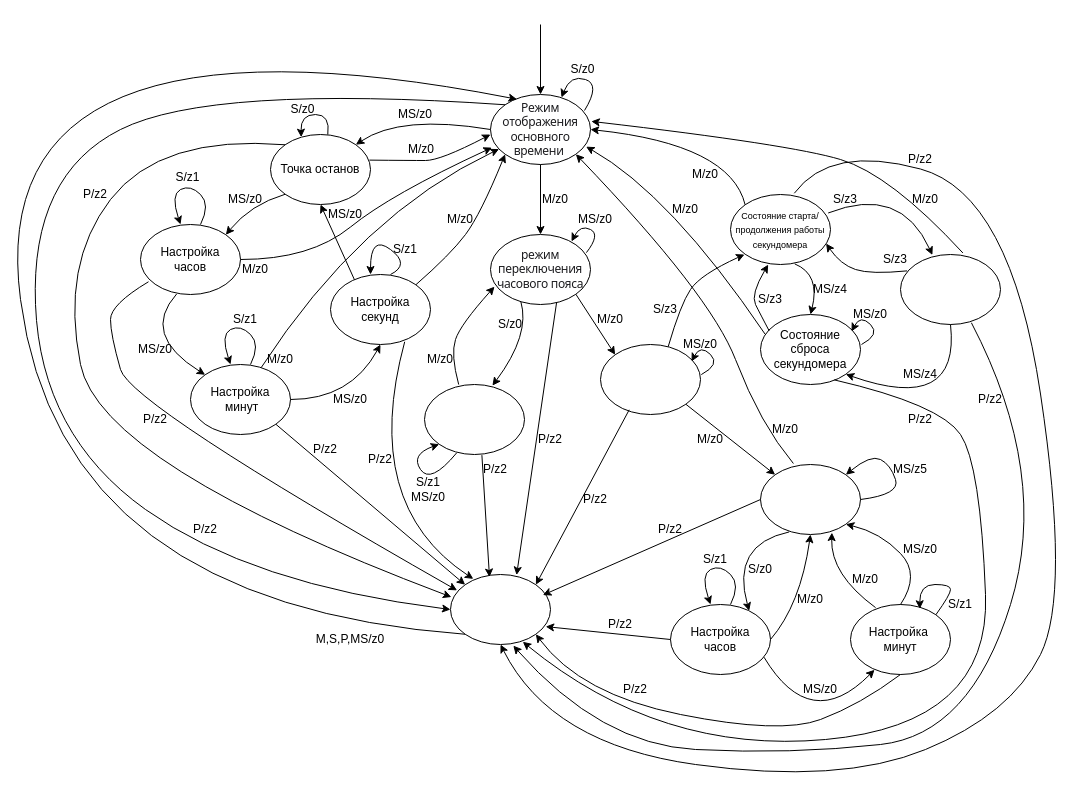
The diagram is 1073 pixels wide and 790 high, and some of its shapes have lost their labels. The box of each missing label's shape, as (x1, y1, x2, y2) in pixels:
Выключить экран: (450, 574, 550, 644)
Настройка разницы часовых поясов: (424, 384, 524, 454)
Режим настройки будильника: (760, 464, 860, 534)
Режим Секундомера: (600, 344, 700, 414)
Состояние остановки секундомера: (900, 254, 1000, 324)
